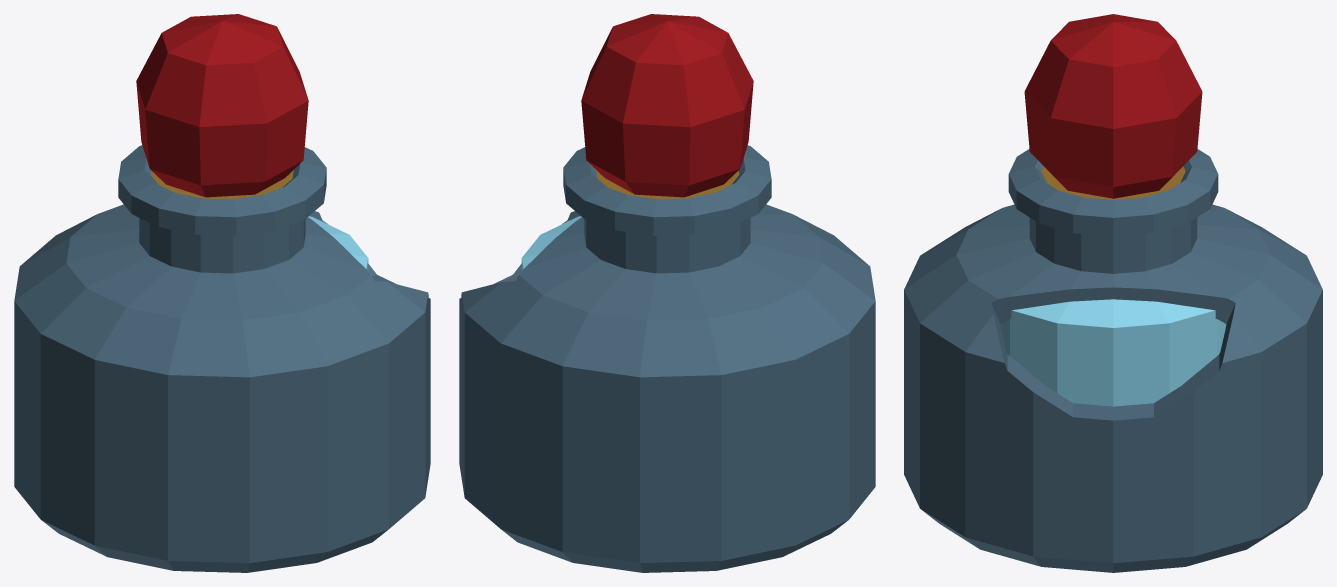
File: eye_drops.obj
3 renders of one model, left to right at view 1: azimuth 30°, elevation 25°; view 2: azimuth 150°, elevation 25°; view 3: azimuth 270°, elevation 25°, orthographic.
Visible parts, largest first — view 1: A_Flask.001_eye_drops_glass, S_Bulb.001_eye_drops_wax, A_Liquid.001_eye_drops_liquid, S_Cap.001_eye_drops_brass; view 2: A_Flask.001_eye_drops_glass, S_Bulb.001_eye_drops_wax, A_Liquid.001_eye_drops_liquid, S_Cap.001_eye_drops_brass; view 3: A_Flask.001_eye_drops_glass, S_Bulb.001_eye_drops_wax, A_Liquid.001_eye_drops_liquid, S_Cap.001_eye_drops_brass.
Part boxes in pixels (box(x1,y1,x2,y2)): A_Flask.001_eye_drops_glass: box(14, 145, 430, 572); S_Bulb.001_eye_drops_wax: box(136, 14, 308, 197); A_Liquid.001_eye_drops_liquid: box(308, 216, 368, 270); S_Cap.001_eye_drops_brass: box(150, 170, 293, 199); A_Flask.001_eye_drops_glass: box(459, 145, 875, 572); S_Bulb.001_eye_drops_wax: box(581, 14, 753, 197); A_Liquid.001_eye_drops_liquid: box(521, 216, 581, 270); S_Cap.001_eye_drops_brass: box(596, 170, 739, 199); A_Flask.001_eye_drops_glass: box(904, 149, 1322, 572); S_Bulb.001_eye_drops_wax: box(1024, 14, 1202, 198); A_Liquid.001_eye_drops_liquid: box(1000, 299, 1226, 406); S_Cap.001_eye_drops_brass: box(1041, 166, 1185, 199).
Bounding box in the file's own units: 1.09 × 1.35 × 1.09.
